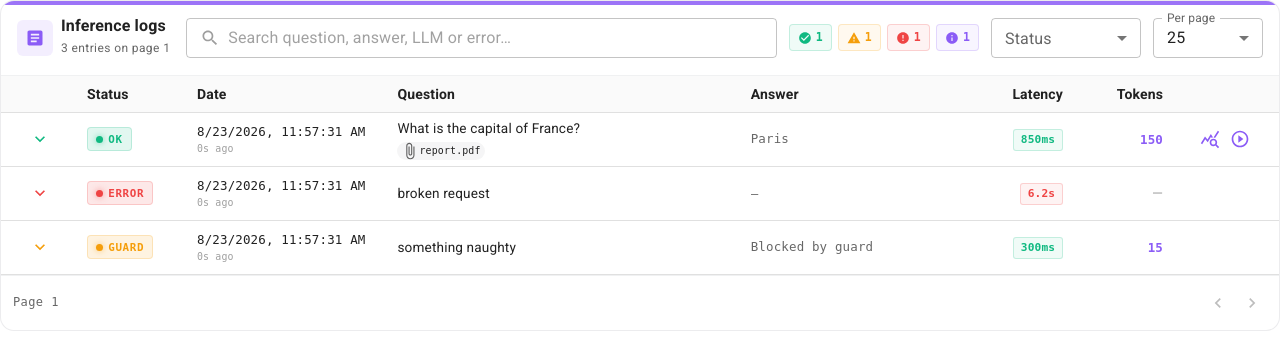
Scenario: ProjectLogs › filters rows by status (failures hides successes)
This screenshot has width=1280, height=356.
Expected: the text "What is the capital of France?" is shown, x1=398 y1=120 x2=580 y2=136
Step 1. Click the dropdown named "Status" → click(1066, 38), box x1=991 y1=18 x2=1141 y2=58
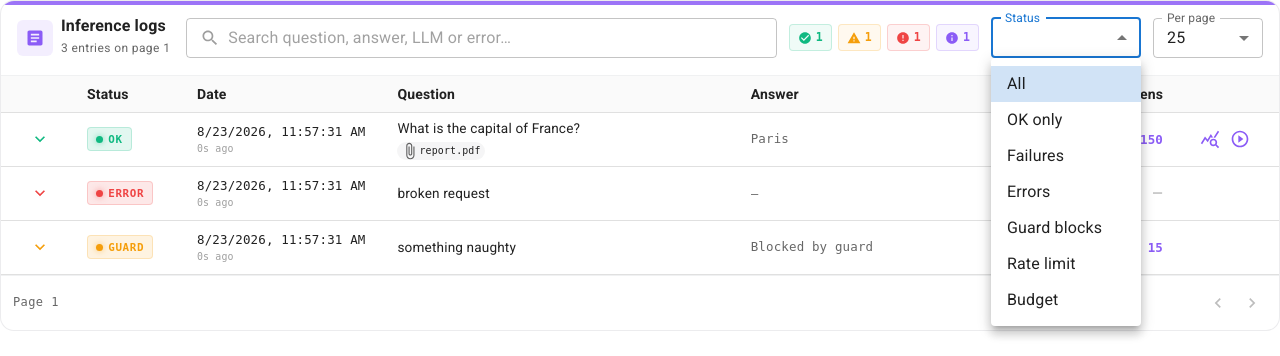
Step 2. Click the option "Failures" → click(1036, 156), box x1=1007 y1=146 x2=1064 y2=165
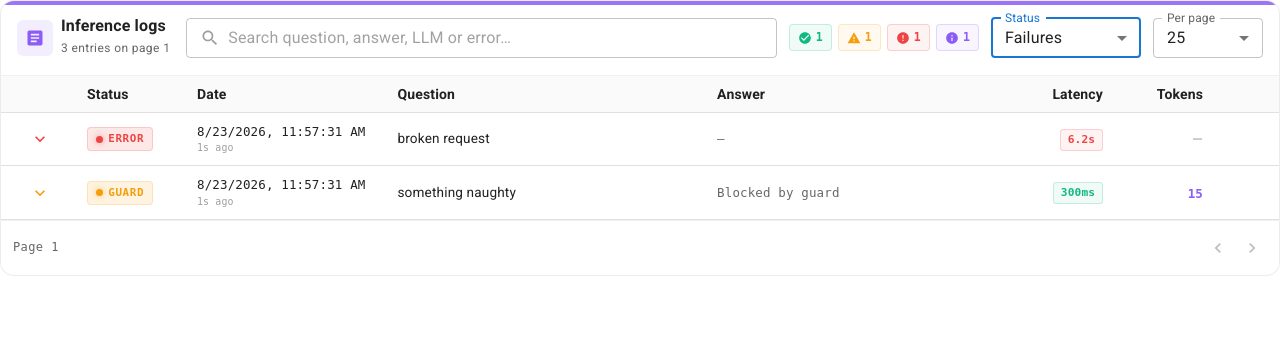
Expected: the text "broken request" is shown, x1=398 y1=130 x2=490 y2=146
Now the text "What is the capital of France?" is gone
